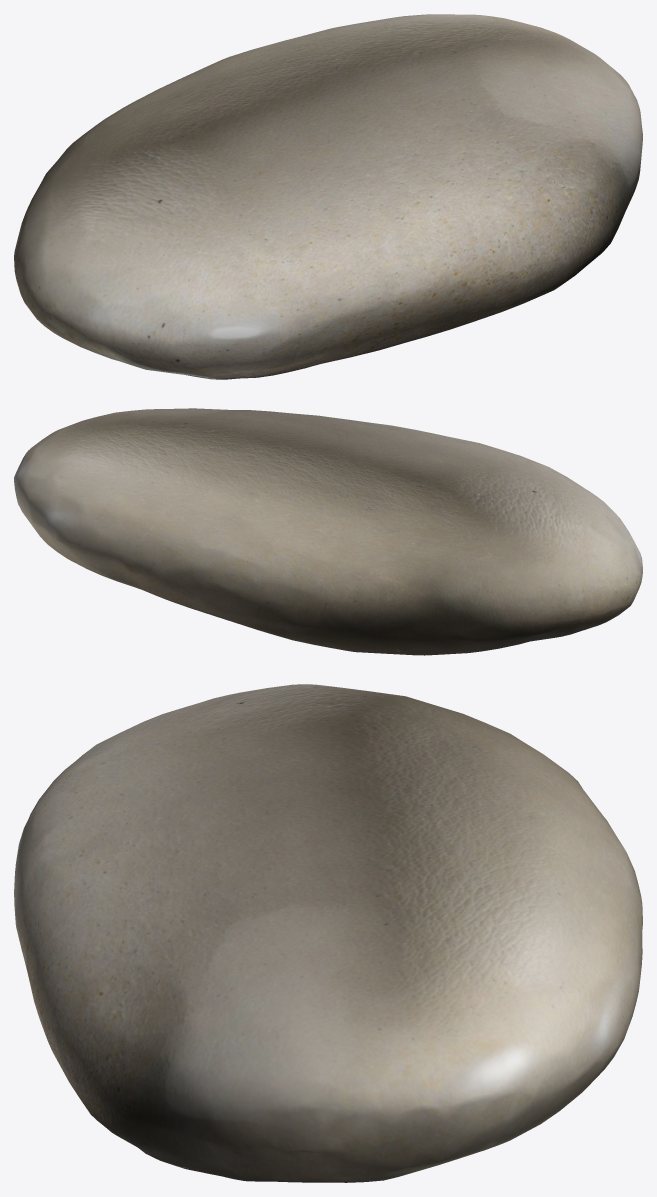
3 renders of one model, top to bottom at view 1: azimuth 30°, elevation 25°; view 2: azimuth 150°, elevation 25°; view 3: azimuth 270°, elevation 25°, orthographic. The views are drawn at different scales.
Parts seen in each view (by area): view 1: Mesh1.0; view 2: Mesh1.0; view 3: Mesh1.0.
Part boxes in pixels (x1,y1,x2,y2): Mesh1.0: (14,14,642,379); Mesh1.0: (14,408,642,655); Mesh1.0: (14,684,642,1182).
Bounding box in the file's own units: 200 × 61.96 × 125.
1 material, 1 textured.
